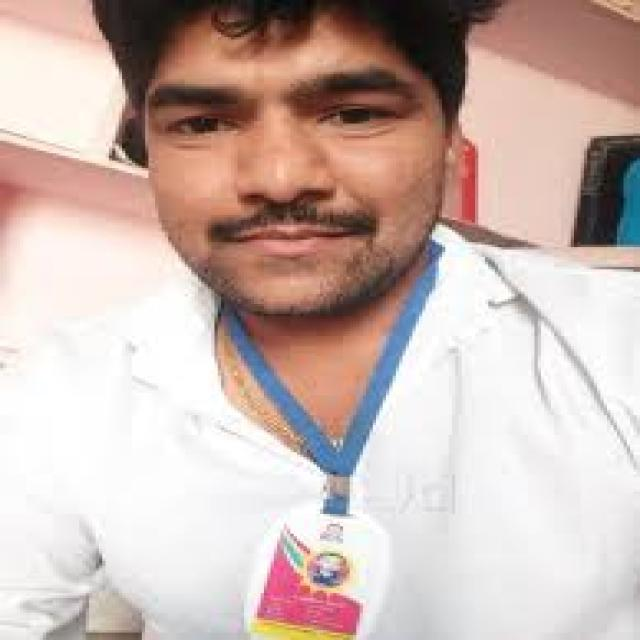id_card: (190, 296, 431, 633)
